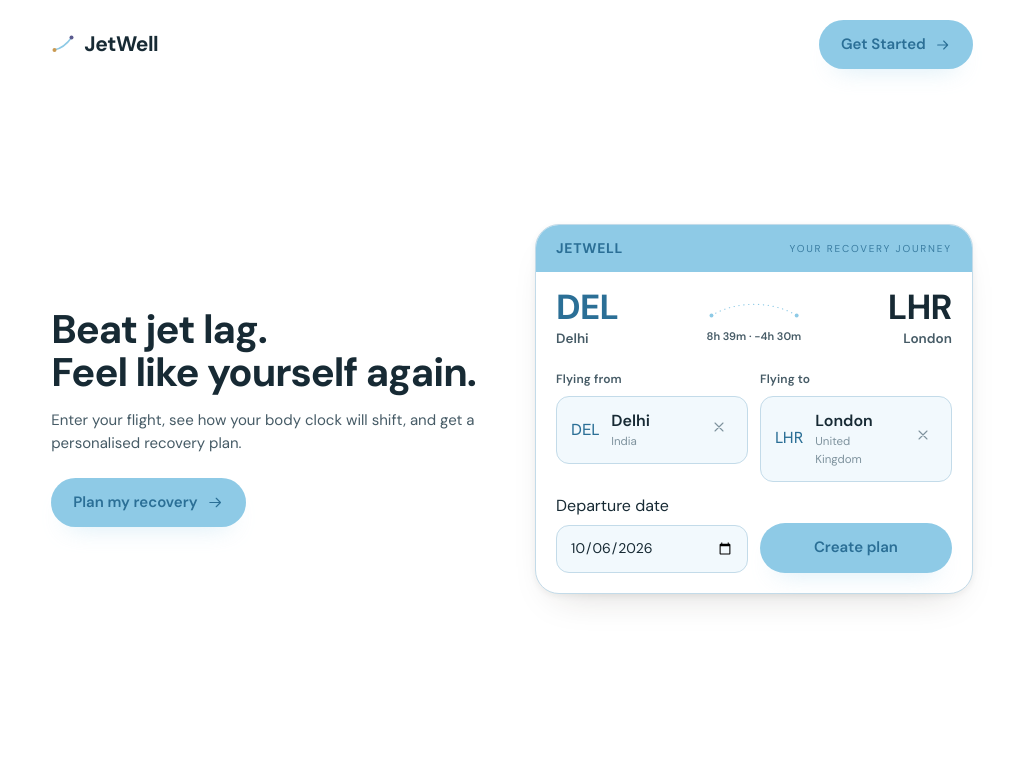
it: app smoke tests › renders the seeded itinerary after navigating
Click the button "Get Started". click: (896, 45)
box: [819,20,973,69]
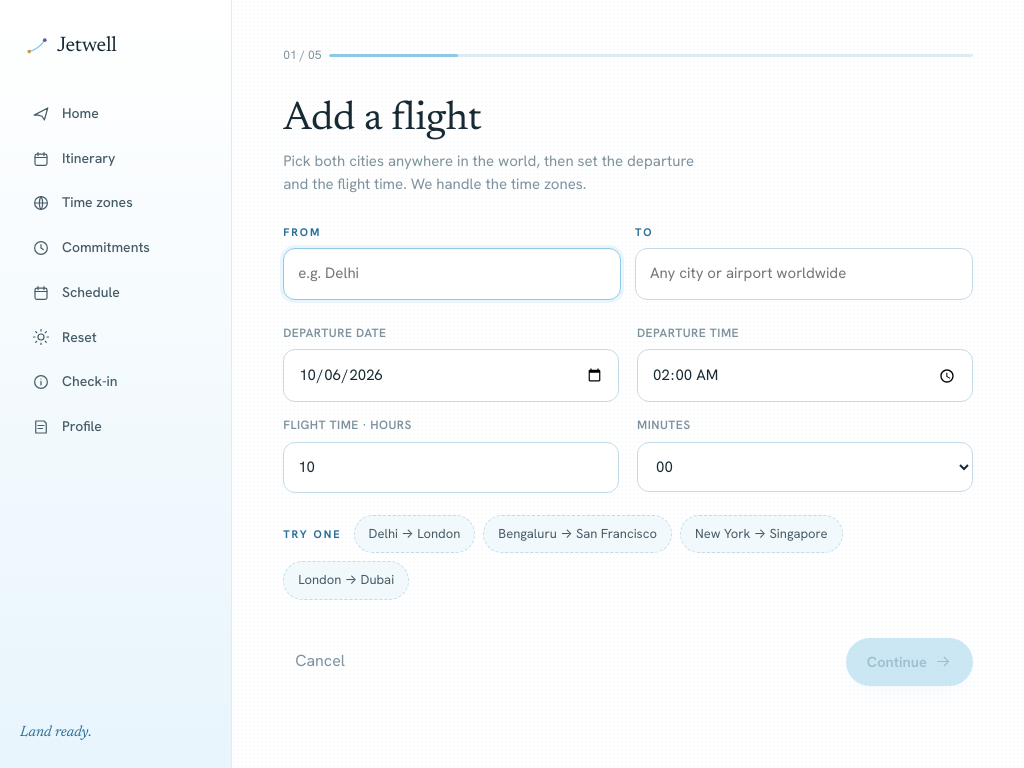
Click the button "Itinerary". click: (116, 159)
box: [20,138,211,180]
(page scrolled)
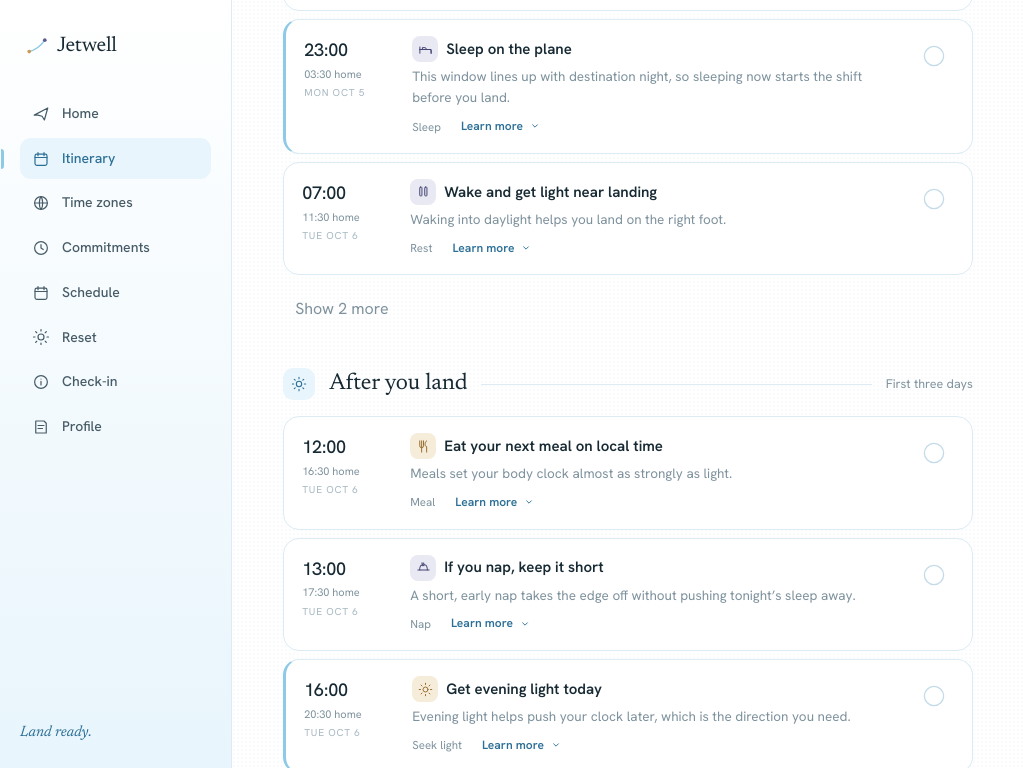
Result: the heading "After you land" is shown at [329,372,467,396]
